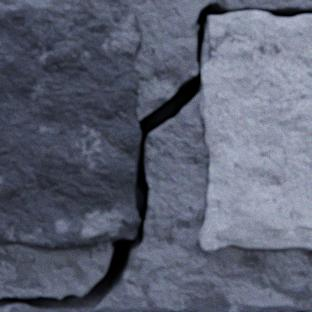brick: (0, 8, 142, 249), (199, 11, 311, 252), (0, 302, 311, 311)
crack: (0, 1, 311, 309)
